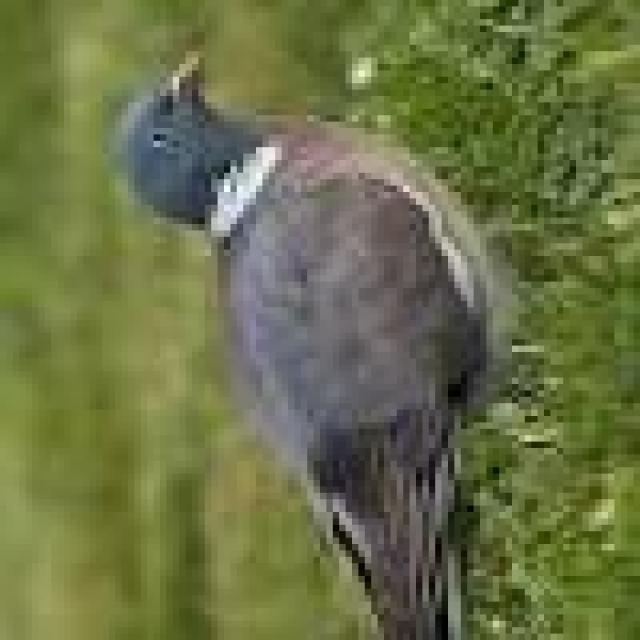pigeon: (102, 32, 564, 640)
